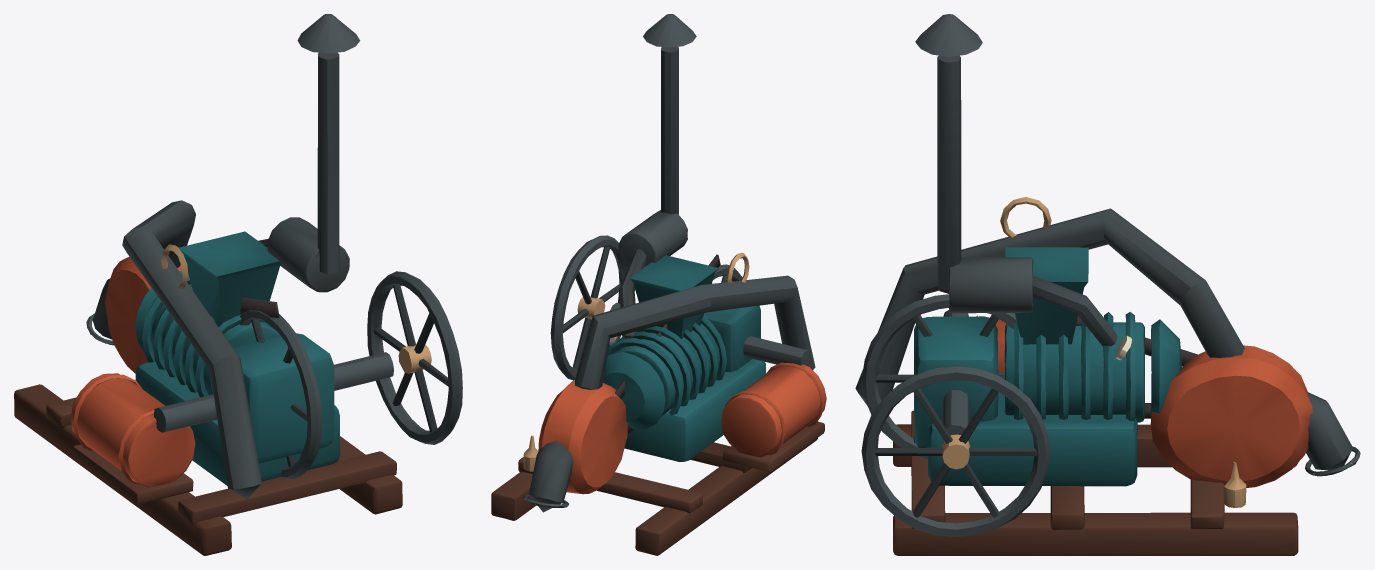
Rendered from pump_diesel.glb.
3 renders of one model, left to right at view 1: azimuth 30°, elevation 25°; view 2: azimuth 150°, elevation 25°; view 3: azimuth 270°, elevation 25°, orthographic. The views are drawn at different scales.
Visible parts, largest first — view 1: PumpDiesel, Flywheel; view 2: PumpDiesel, Flywheel; view 3: PumpDiesel, Flywheel.
Boxes of the visible parts, x1,y1,x2,y2 form: PumpDiesel: (14, 14, 402, 555); Flywheel: (239, 271, 462, 479); PumpDiesel: (491, 14, 826, 555); Flywheel: (550, 235, 742, 380); PumpDiesel: (855, 14, 1360, 555); Flywheel: (861, 294, 1050, 536).
Bounding box in the file's own units: 2.61 × 4.09 × 3.62.
